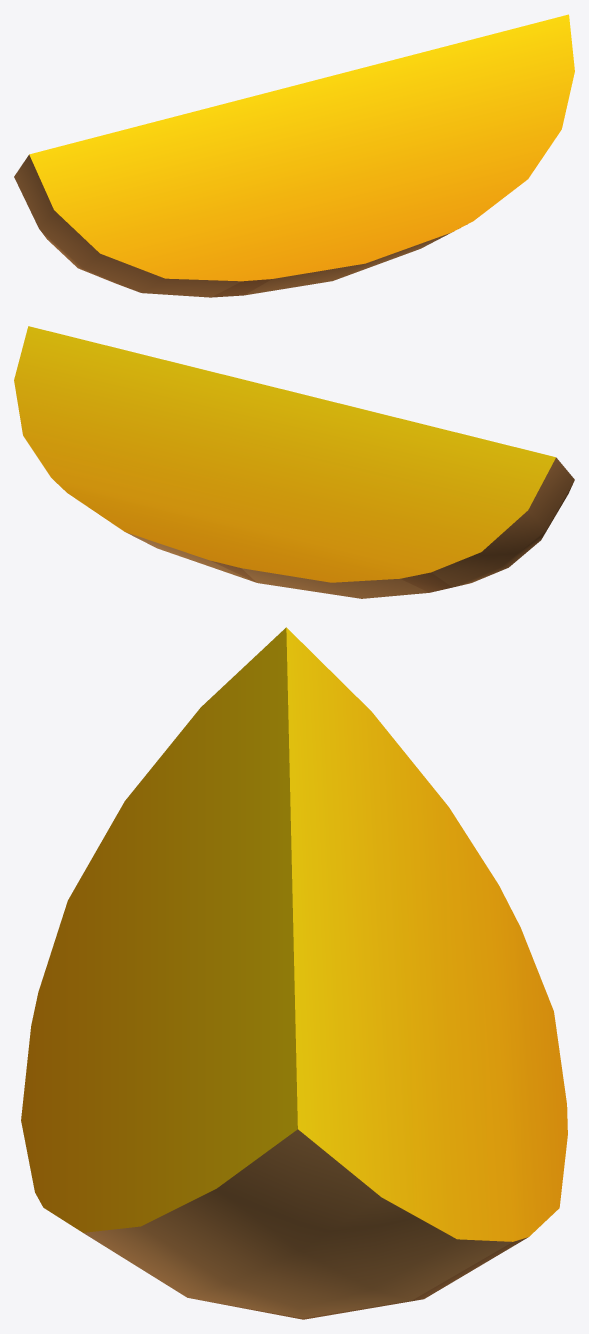
Rendered from Potato_Slice_01.glb.
The picture shows the model from 3 angles, top to bottom: view 1: azimuth 30°, elevation 25°; view 2: azimuth 150°, elevation 25°; view 3: azimuth 270°, elevation 25°; orthographic projection. The views are drawn at different scales.
Visible parts, largest first — view 1: Potato_Slice_01; view 2: Potato_Slice_01; view 3: Potato_Slice_01.
Part boxes in pixels (box(x1,y1,x2,y2)): Potato_Slice_01: box(14, 14, 574, 297); Potato_Slice_01: box(14, 326, 574, 598); Potato_Slice_01: box(21, 627, 567, 1319).
Size of the model in its own units: 0.3034 by 0.0999 by 0.1368.
1 material, 1 textured.
